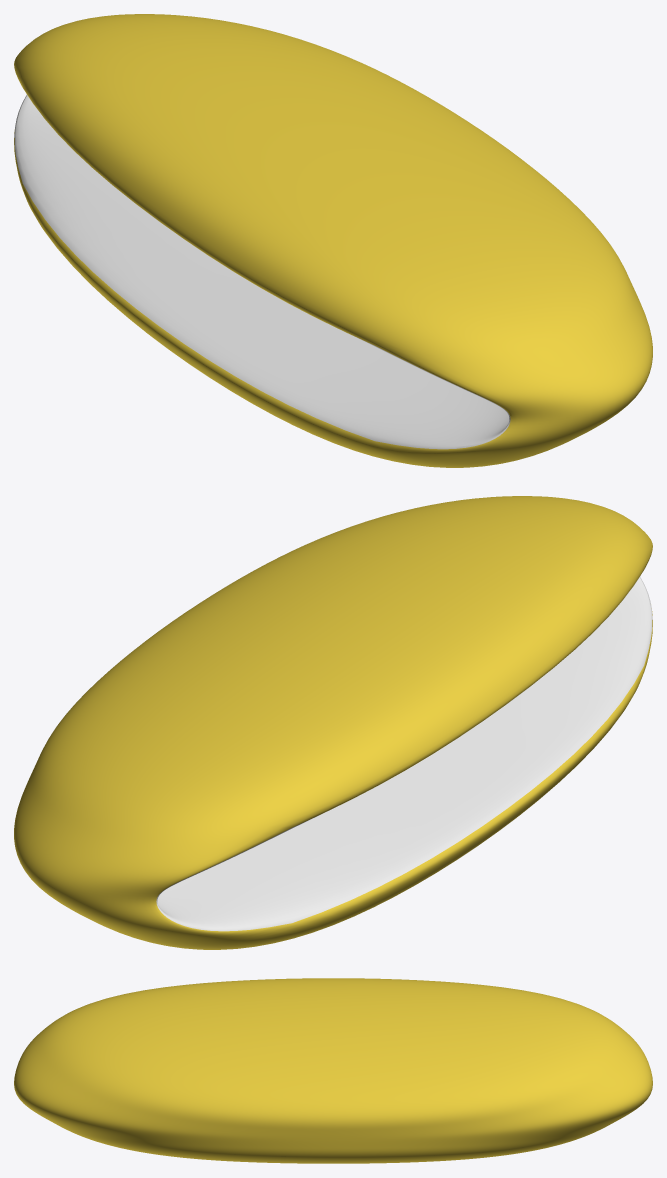
The model's file is bread.fbx.
3 views of the same model, one above another, from view 1: azimuth 30°, elevation 25°; view 2: azimuth 150°, elevation 25°; view 3: azimuth 270°, elevation 25° (orthographic). The views are drawn at different scales.
Visible parts, largest first — view 1: Bread; view 2: Bread; view 3: Bread.
Part boxes in pixels (x1,y1,x2,y2): Bread: [14, 14, 652, 467]; Bread: [14, 496, 652, 949]; Bread: [14, 978, 652, 1163].
Bounding box in the file's own units: 24.67 × 12.7 × 58.6.
